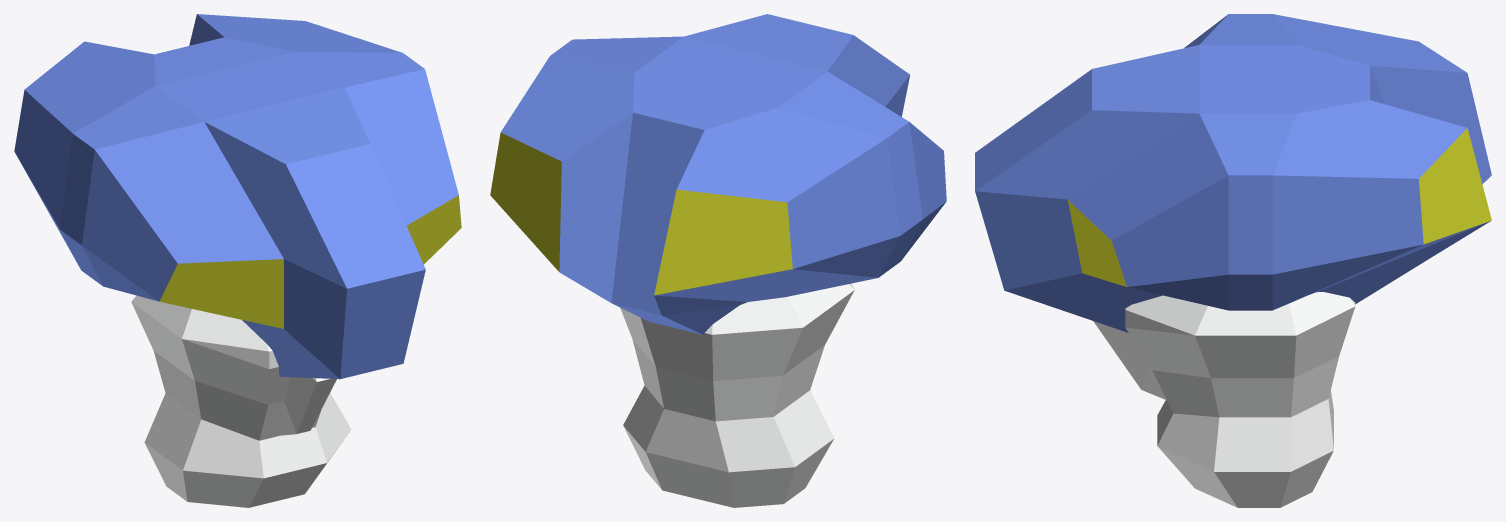
Rendered from Body.fbx.
3 views of the same model, side by side, from view 1: azimuth 30°, elevation 25°; view 2: azimuth 150°, elevation 25°; view 3: azimuth 270°, elevation 25° (orthographic). The views are drawn at different scales.
Visible parts, largest first — view 1: Body; view 2: Body; view 3: Body.
Part boxes in pixels (x1,y1,x2,y2): Body: (14, 14, 461, 507); Body: (490, 14, 946, 507); Body: (975, 14, 1491, 507).
Bounding box in the file's own units: 0.4076 × 0.4317 × 0.5113.
